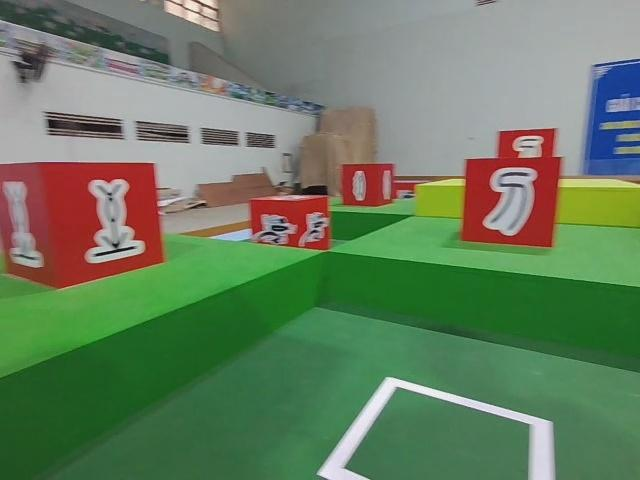R1: (247, 191, 334, 255)
R2 Fake: (455, 157, 561, 251)
R2 Real: (0, 157, 163, 289), (340, 164, 396, 206)
